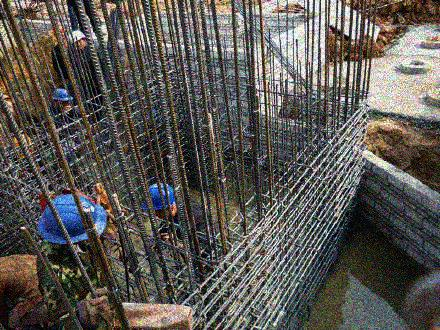helmet: (37, 190, 111, 255), (140, 181, 178, 219), (50, 87, 73, 111), (68, 29, 85, 51)
